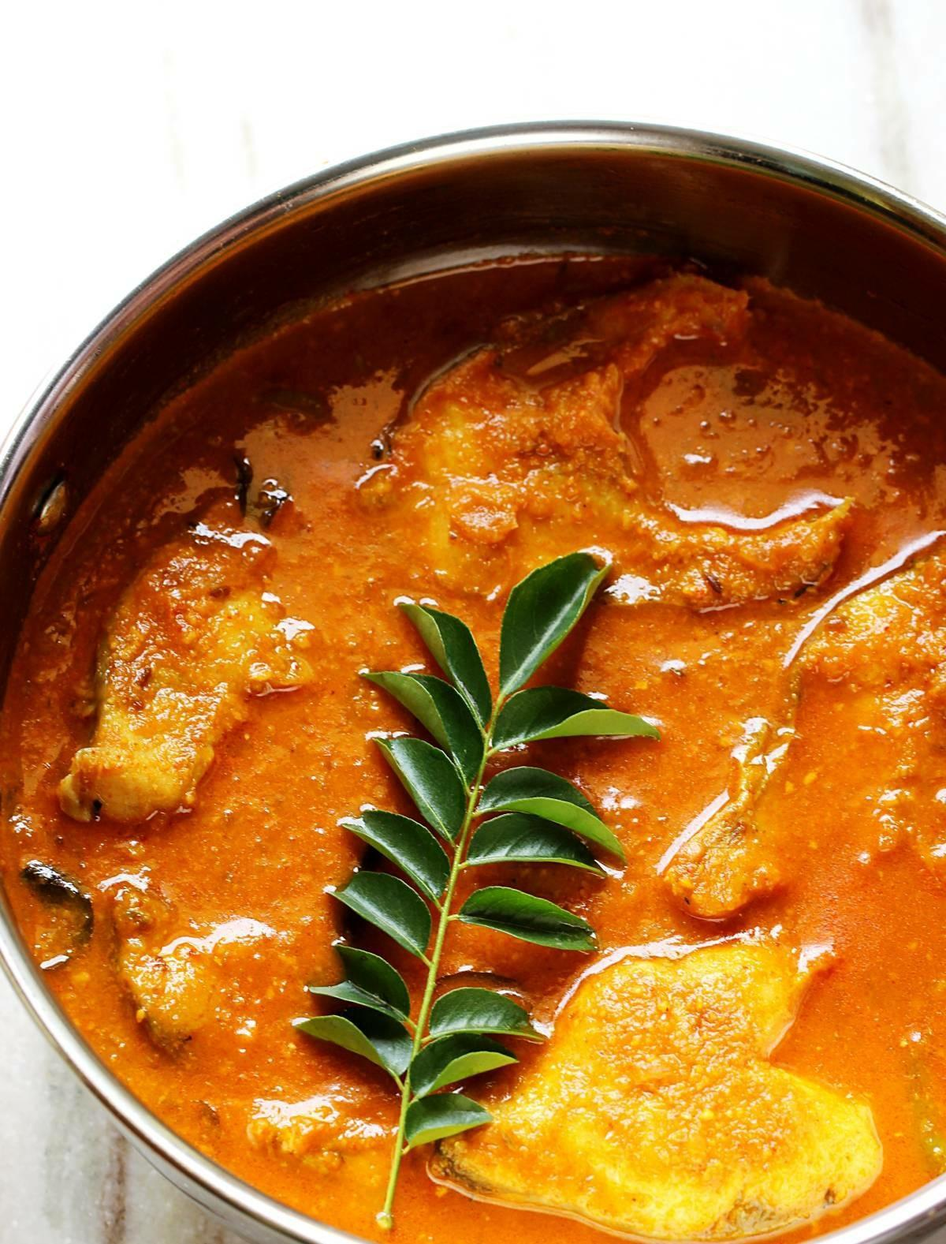FishCurry: (0, 257, 946, 1244)
